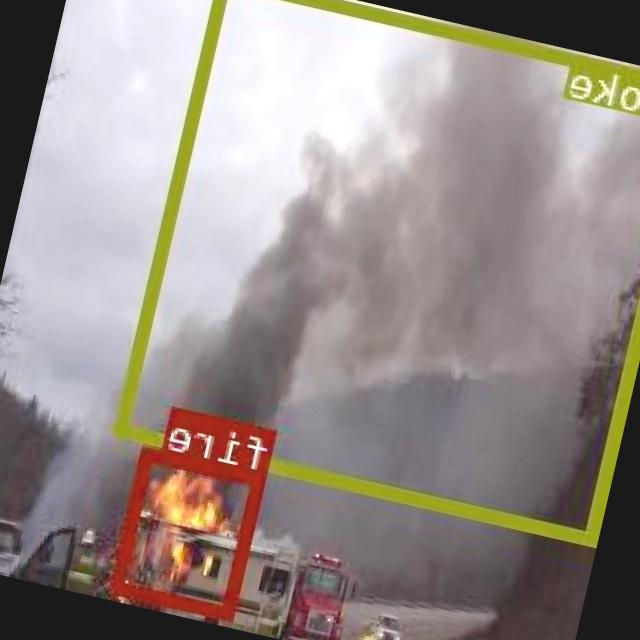fire: (113, 446, 269, 619)
smoke: (115, 0, 640, 543)
